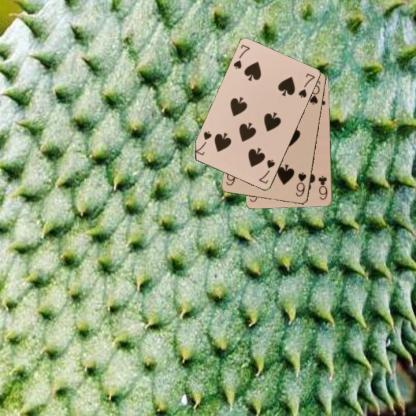6c: (315, 173, 329, 201)
6s: (293, 170, 308, 198)
7s: (256, 156, 276, 186), (231, 42, 251, 70)
